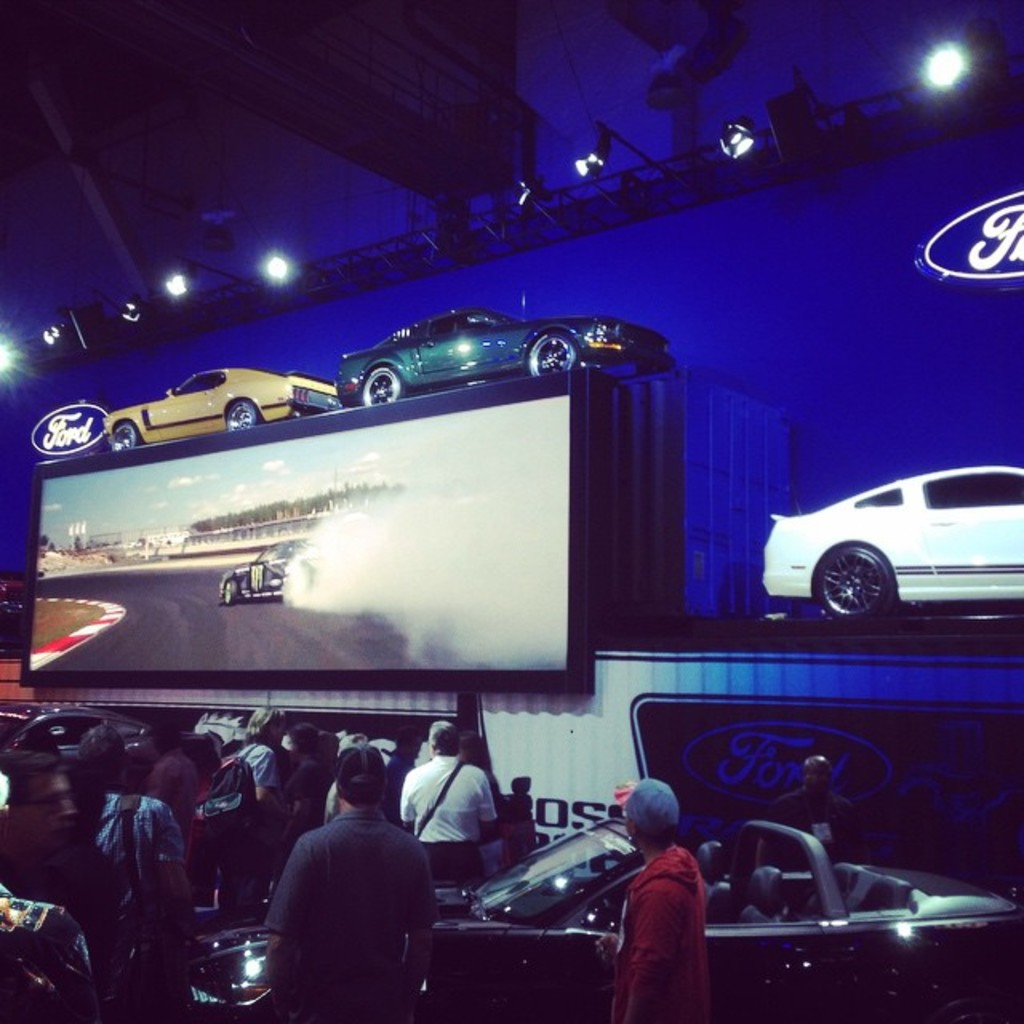Car: (166, 792, 1022, 1022), (758, 468, 1022, 611), (329, 302, 662, 406), (99, 361, 332, 455), (217, 555, 299, 596)
